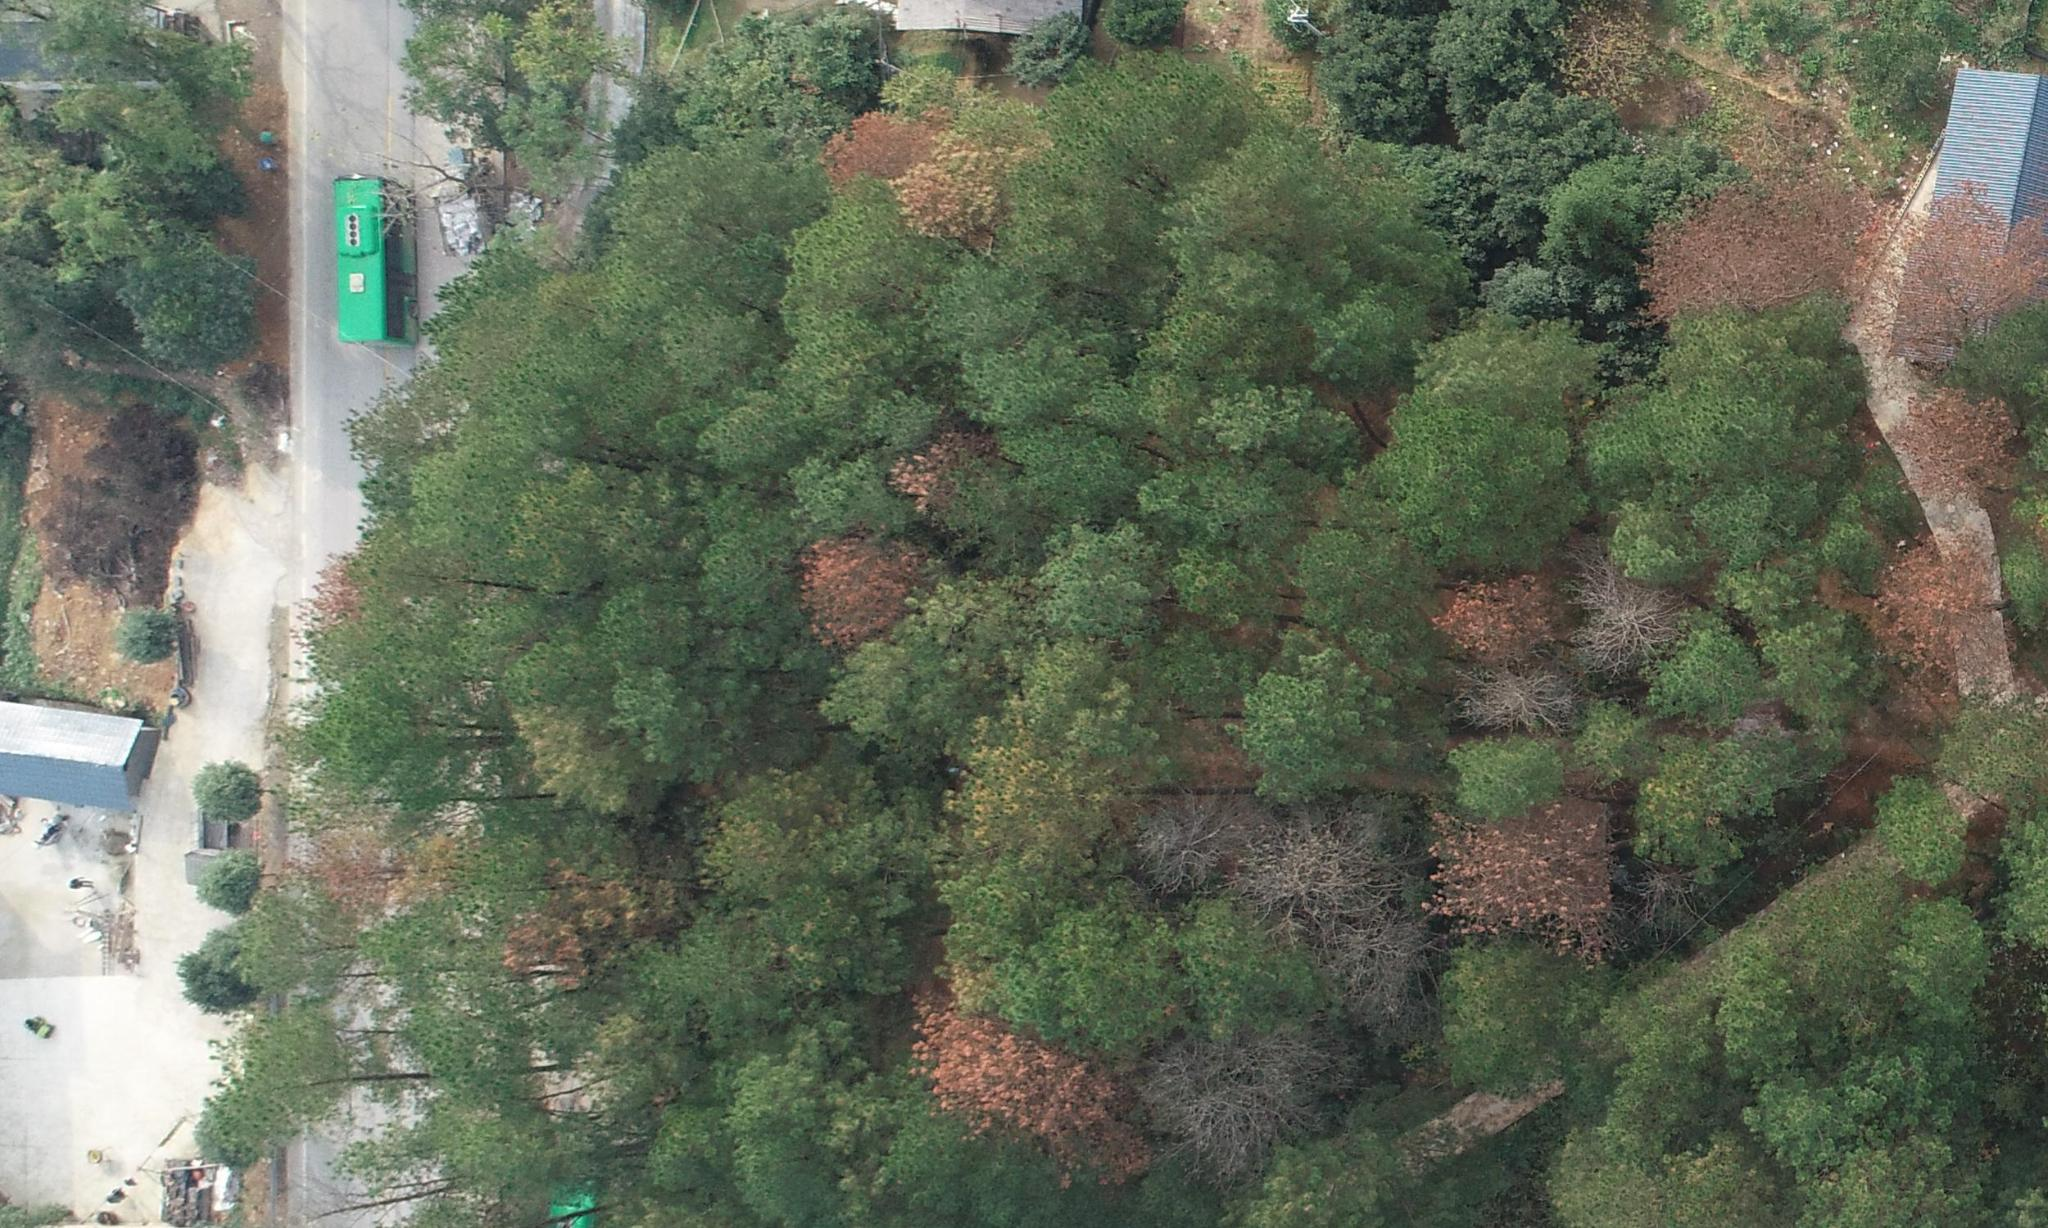dead: (1256, 828, 1418, 1030), (1156, 1030, 1322, 1186), (1577, 566, 1677, 680), (1132, 812, 1238, 896), (1460, 666, 1578, 732)
heavy: (894, 1010, 1150, 1186), (1422, 806, 1620, 970), (1871, 196, 2041, 371), (1636, 180, 1864, 310), (1892, 542, 2012, 662), (1882, 398, 2032, 492), (1430, 562, 1564, 660), (810, 552, 918, 638), (825, 115, 935, 177)
